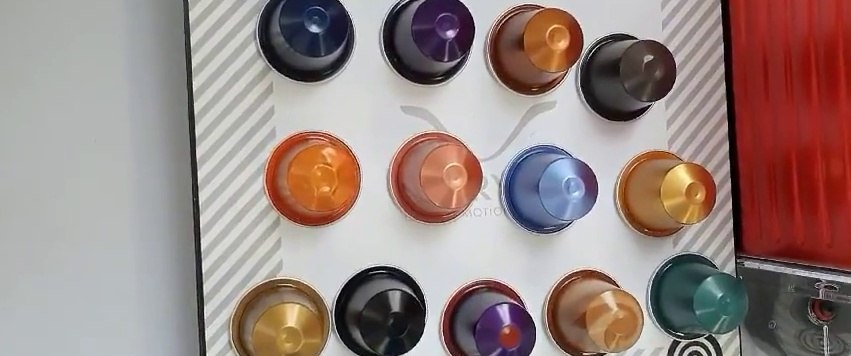capsule_1: (253, 1, 360, 87)
capsule_10: (334, 264, 426, 356)
capsule_11: (440, 278, 535, 356)
capsule_12: (542, 266, 643, 356)
capsule_13: (645, 249, 750, 340)
capsule_2: (376, 1, 475, 88)
capsule_3: (483, 4, 586, 99)
capsule_4: (577, 29, 679, 123)
capsule_5: (263, 128, 367, 229)
capsule_6: (385, 126, 485, 225)
capsule_7: (497, 143, 598, 233)
capsule_8: (611, 144, 717, 241)
capsule_9: (227, 276, 331, 356)
